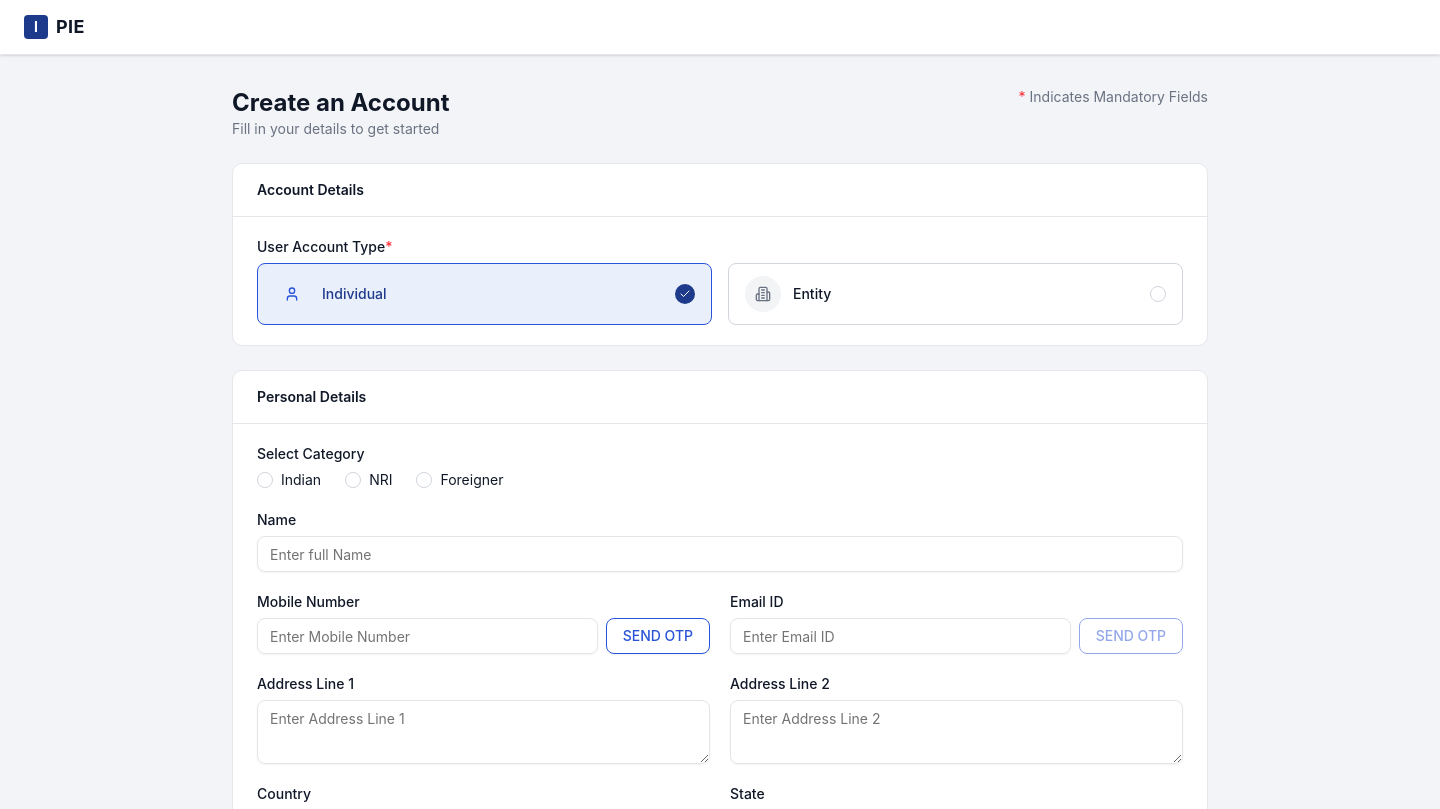
Test: RegisterPage › blocks submission with an inline error when the email has not been verified yet
The image size is (1440, 809).
Type "Jane Doe" into the field with placeholder "Enter full Name". click: (720,554)
box: [257,536,1183,572]
(page scrolled)
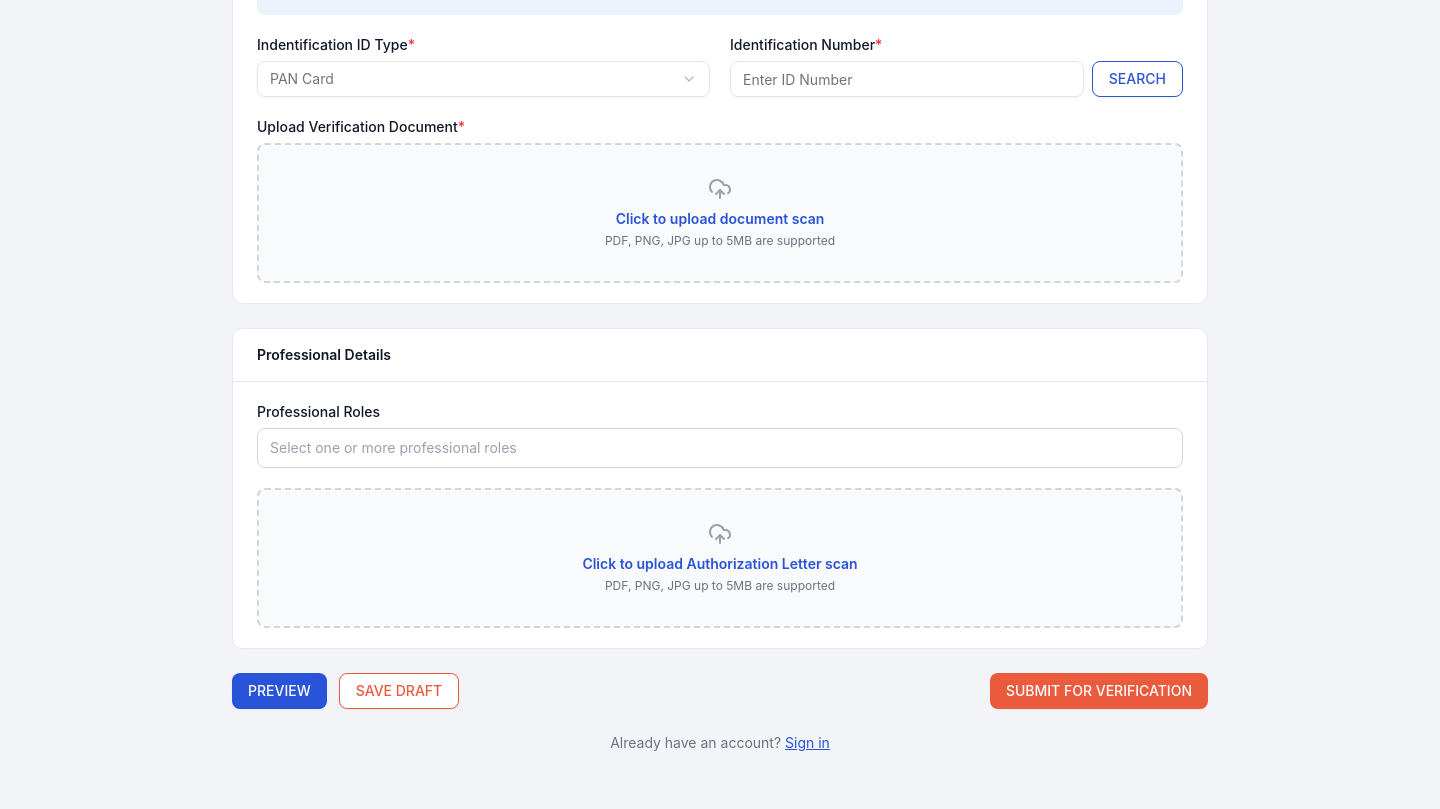
Click the button "SUBMIT FOR VERIFICATION". click: (1099,691)
box: [990,673,1208,709]
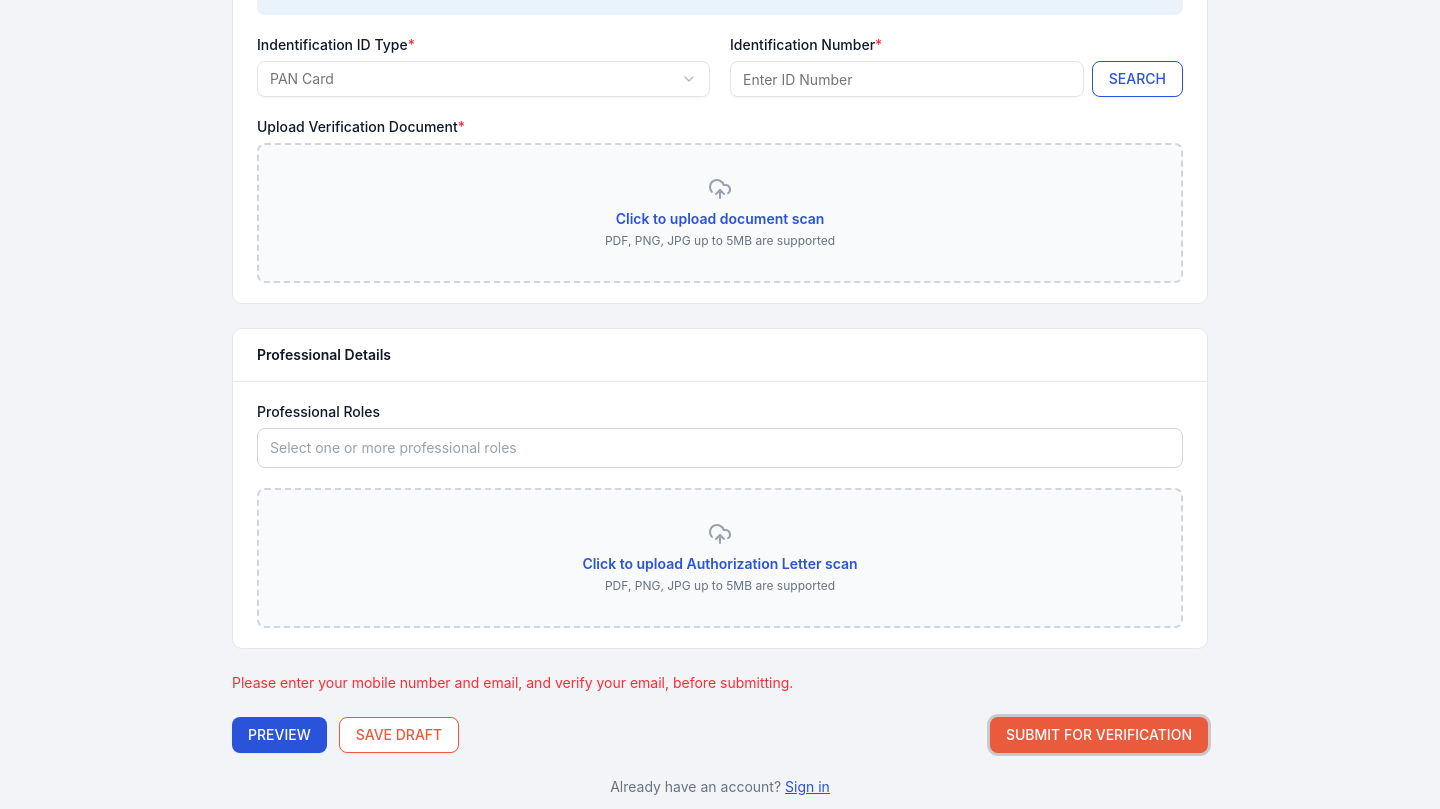
Check: the text "before submitting" is shown, box [232,674,793,691]
